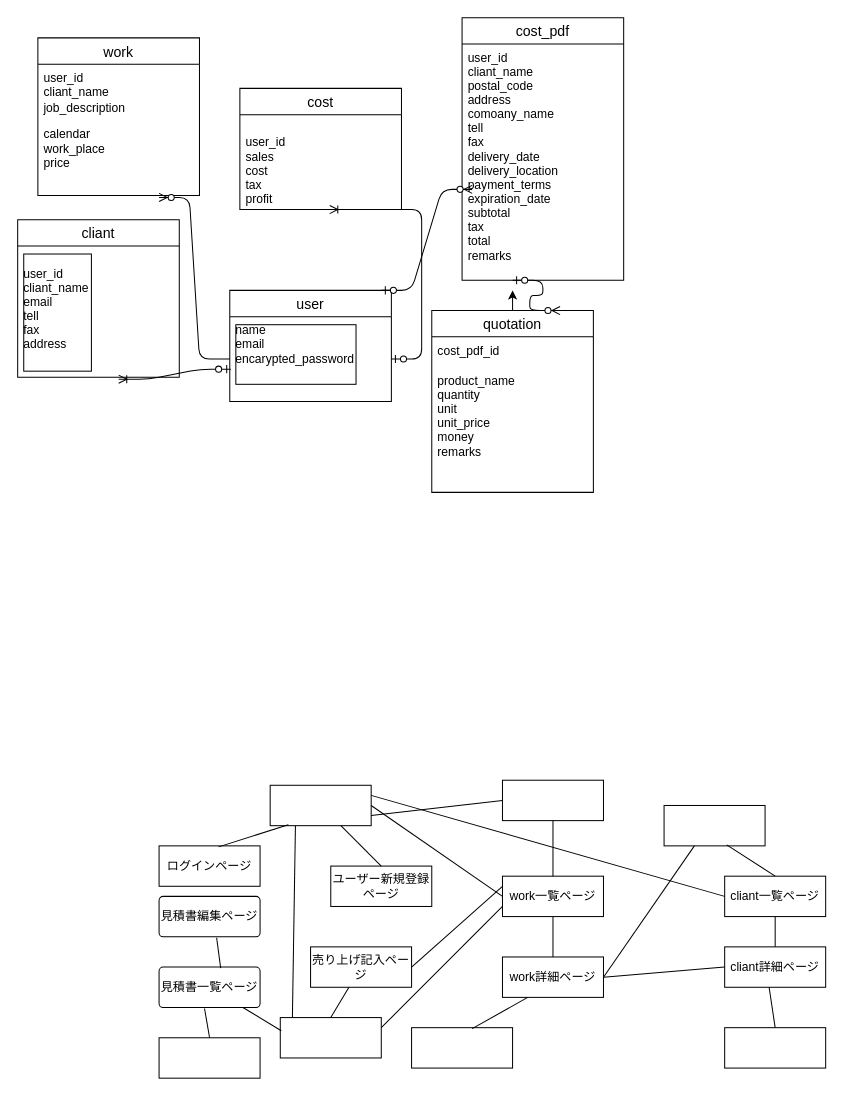
This 843x1096 diagram has some shape labels left out. Here are the shapes that lost their labels. From the top down, the centre of each, then its label:
pixel 320 805: topページ
pixel 552 800: work登録ページ
pixel 714 825: cliant登録ページ
pixel 209 1057: 見積書作成ページ
pixel 330 1037: 売り上げ確認ページ
pixel 462 1047: work編集ページ
pixel 775 1047: cliant編集ページ
